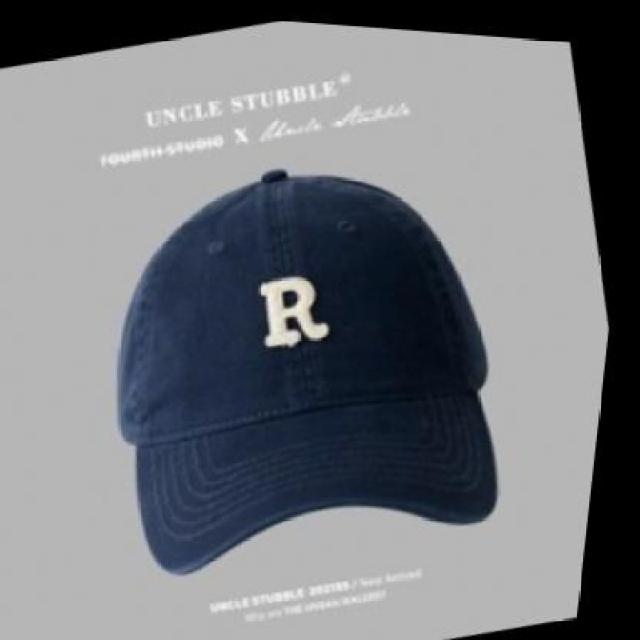hat: (56, 102, 561, 606)
